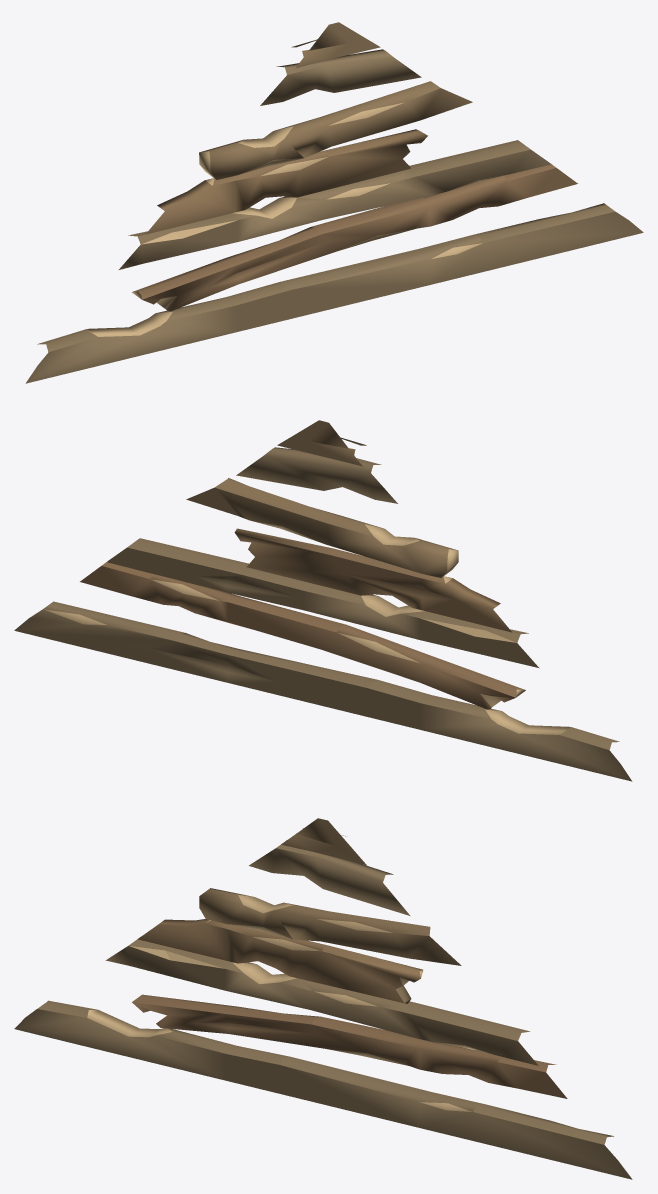
File: rpgpp_av_roof_end_01_9x4_wall_01b.gltf
3 renders of one model, top to bottom at view 1: azimuth 30°, elevation 25°; view 2: azimuth 150°, elevation 25°; view 3: azimuth 330°, elevation 25°, orthographic.
Parts seen in each view (by area): view 1: rpgpp_av_roof_end_01_9x4_wall_01b; view 2: rpgpp_av_roof_end_01_9x4_wall_01b; view 3: rpgpp_av_roof_end_01_9x4_wall_01b.
Boxes of the visible parts, x1,y1,x2,y2 form: rpgpp_av_roof_end_01_9x4_wall_01b: (25,22,643,383); rpgpp_av_roof_end_01_9x4_wall_01b: (14,420,632,781); rpgpp_av_roof_end_01_9x4_wall_01b: (14,818,632,1179).
Size of the model in its own units: 0.0963 by 0.0423 by 0.00387.
Materials: 1 (1 with a texture image).
